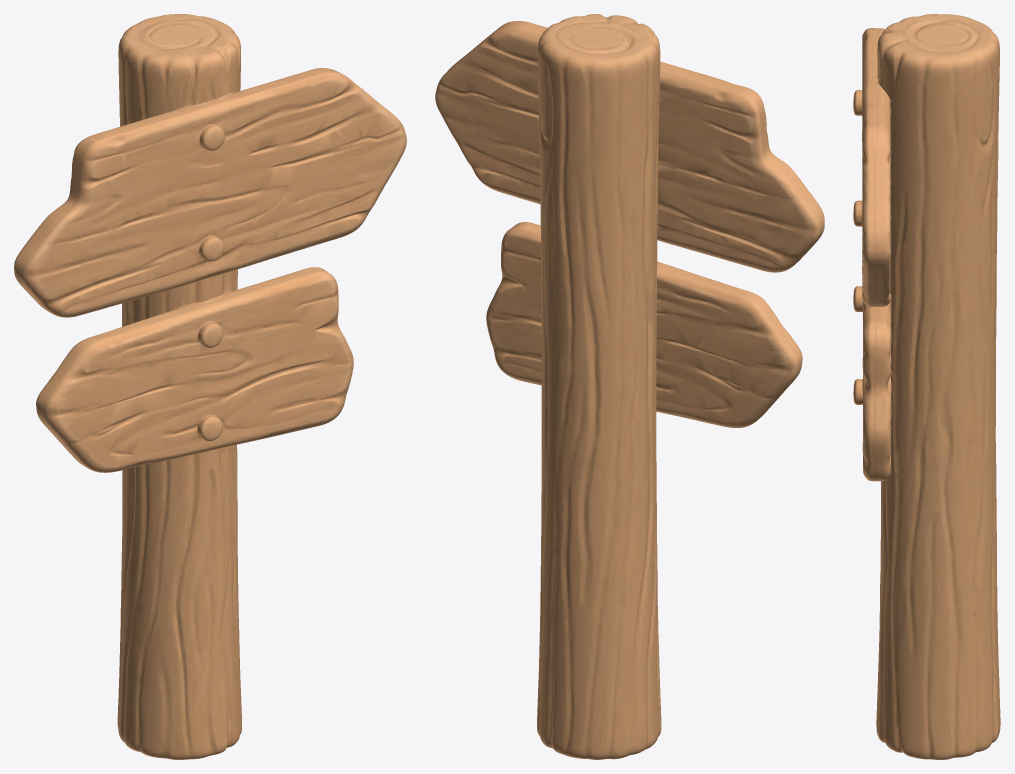
Rendered from sign-low.glb.
3 renders of one model, left to right at view 1: azimuth 30°, elevation 25°; view 2: azimuth 150°, elevation 25°; view 3: azimuth 270°, elevation 25°, orthographic.
Visible parts, largest first — view 1: Mesh_0.005; view 2: Mesh_0.005; view 3: Mesh_0.005.
Boxes of the visible parts, x1=… form: Mesh_0.005: x1=14, y1=14, x2=406, y2=759; Mesh_0.005: x1=435, y1=14, x2=824, y2=759; Mesh_0.005: x1=853, y1=14, x2=1000, y2=759.
Bounding box in the file's own units: 1.09 × 1.9 × 0.3621.
1 material, 1 textured.
